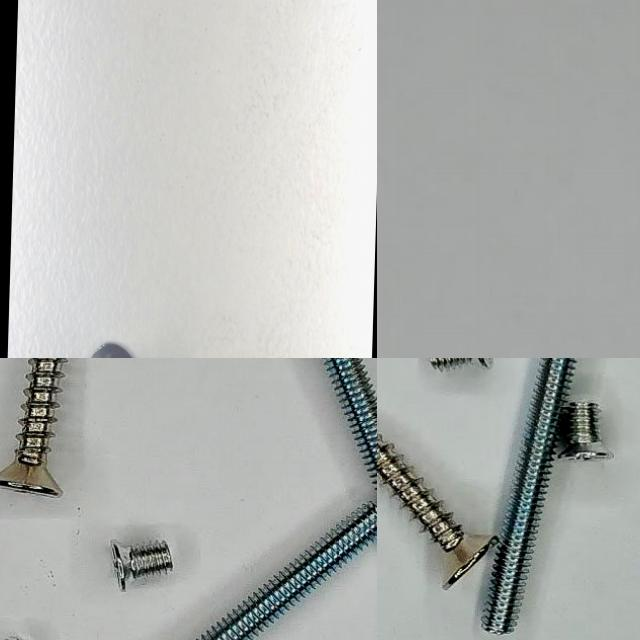Screw: (482, 358, 579, 635), (199, 504, 377, 640), (377, 437, 499, 590), (0, 358, 66, 497), (325, 358, 377, 493), (559, 403, 615, 460), (111, 542, 173, 592), (430, 358, 492, 371)
